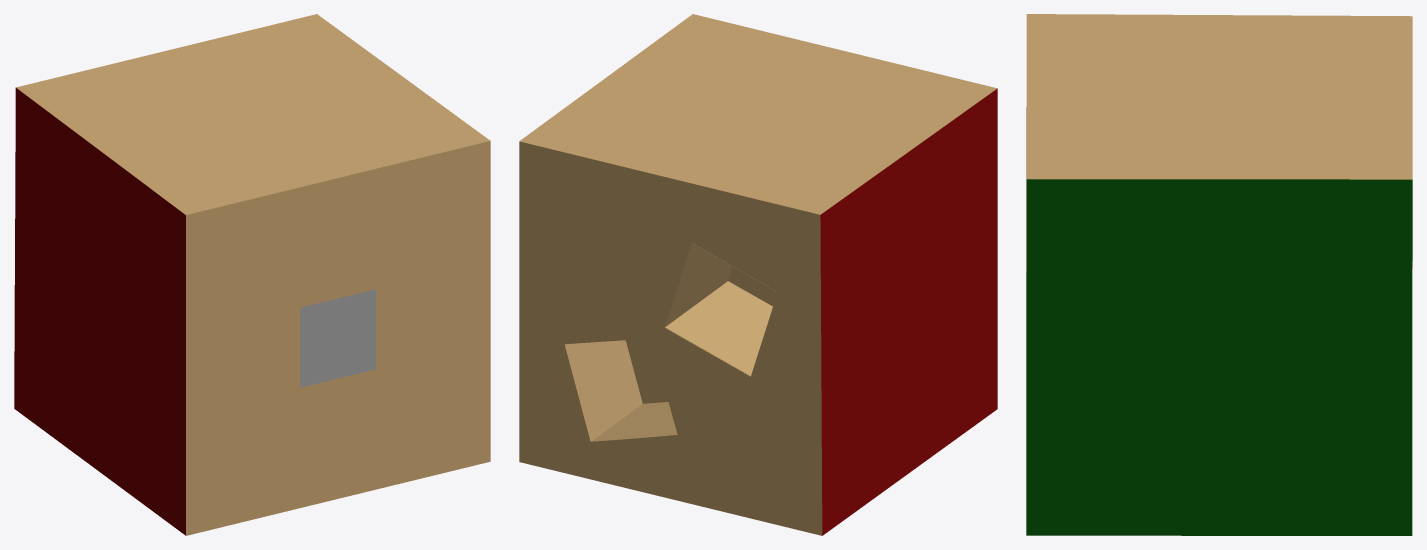
Rendered from cornell-and-friends2.obj.
The picture shows the model from 3 angles, left to right: view 1: azimuth 30°, elevation 25°; view 2: azimuth 150°, elevation 25°; view 3: azimuth 270°, elevation 25°; orthographic projection. The views are drawn at different scales.
Parts seen in each view (by area): view 1: ceiling, left_wall, back_wall, light_area_light; view 2: floor, left_wall, back_wall, tall_box, short_box; view 3: right_wall, back_wall.
Boxes of the visible parts, x1,y1,x2,y2 form: ceiling: (186, 141, 490, 535); left_wall: (14, 87, 185, 535); back_wall: (16, 14, 490, 214); light_area_light: (300, 289, 376, 387); floor: (519, 141, 822, 535); left_wall: (820, 88, 997, 535); back_wall: (519, 14, 996, 214); tall_box: (665, 243, 777, 376); short_box: (564, 338, 677, 441); right_wall: (1026, 179, 1412, 535); back_wall: (1026, 14, 1412, 179).
Bounding box in the file's own units: 5.56 × 5.6 × 5.49.
